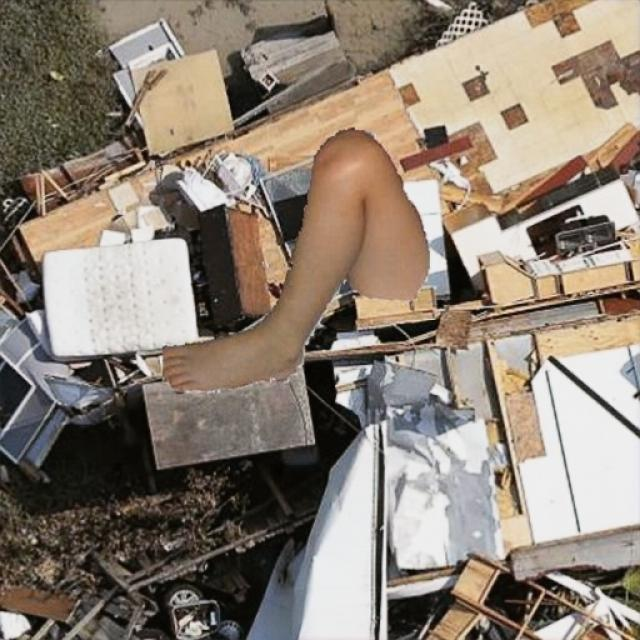Person in Rubble: (162, 128, 428, 392)
